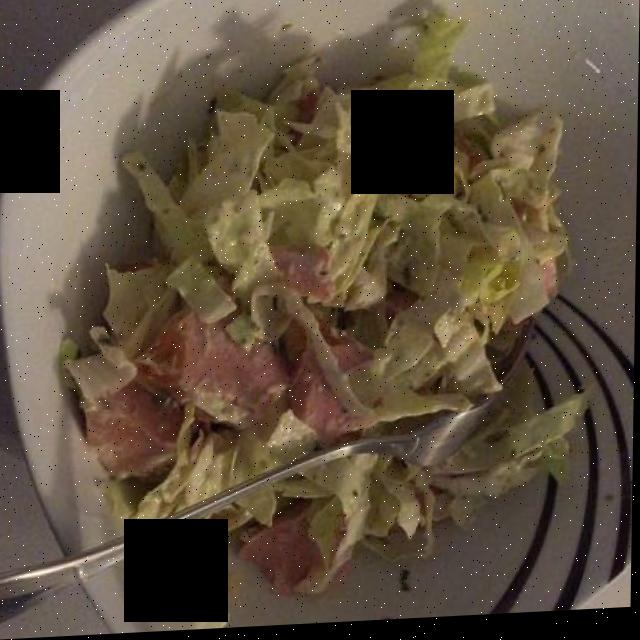mixed-salad-chopped-without-sauce: (70, 26, 567, 518)
